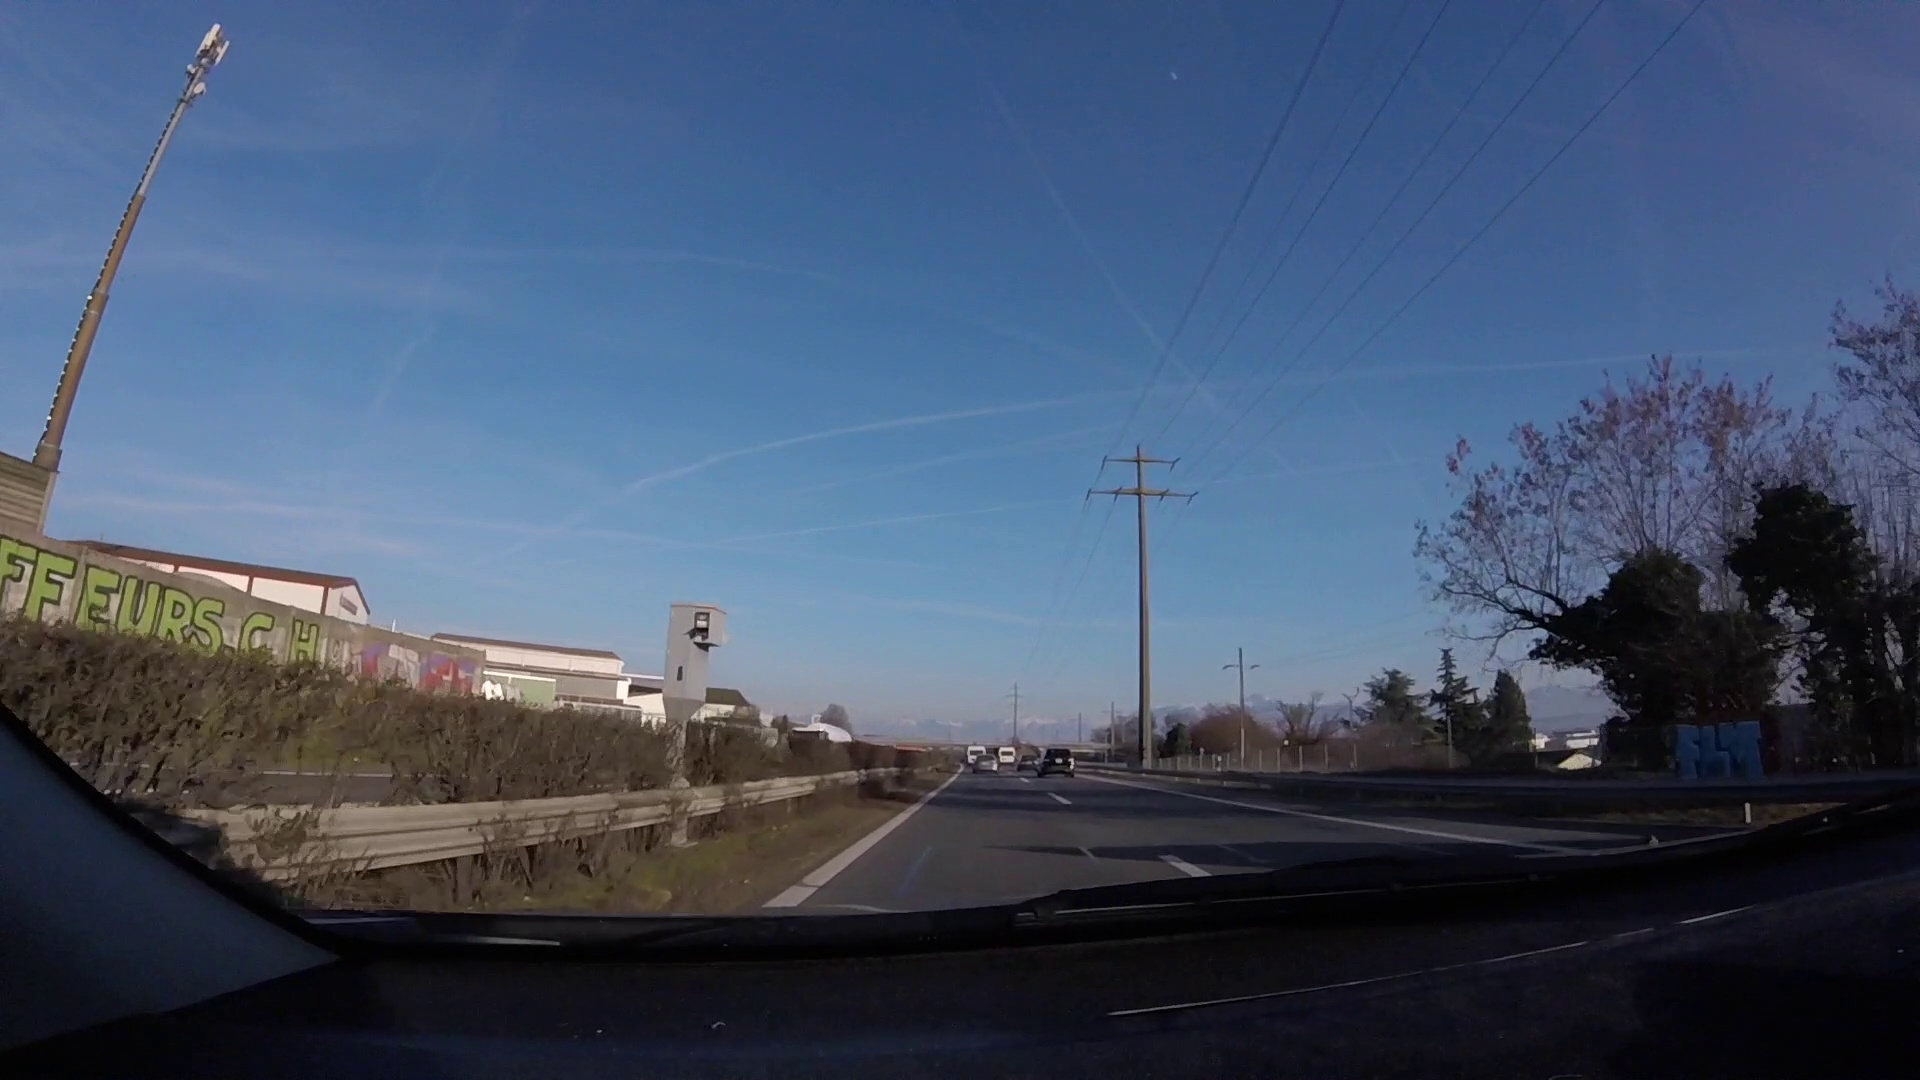radar: (661, 600, 731, 729)
